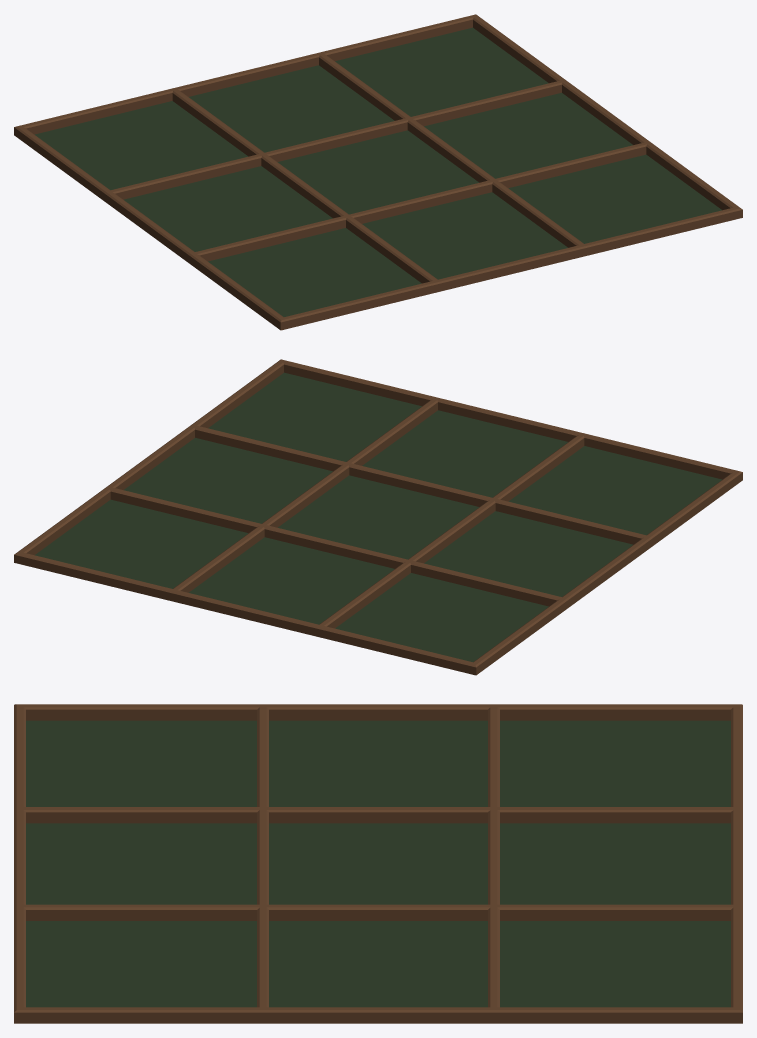
The model's file is X and O board.fbx.
The picture shows the model from 3 angles, top to bottom: view 1: azimuth 30°, elevation 25°; view 2: azimuth 150°, elevation 25°; view 3: azimuth 270°, elevation 25°; orthographic projection. The views are drawn at different scales.
Parts seen in each view (by area): view 1: Plane; view 2: Plane; view 3: Plane.
Boxes of the visible parts, box(x1,y1,x2,y2) form: Plane: box(14, 14, 742, 330); Plane: box(14, 359, 742, 675); Plane: box(14, 704, 742, 1023).
Size of the model in its own units: 600 by 11.31 by 600.
